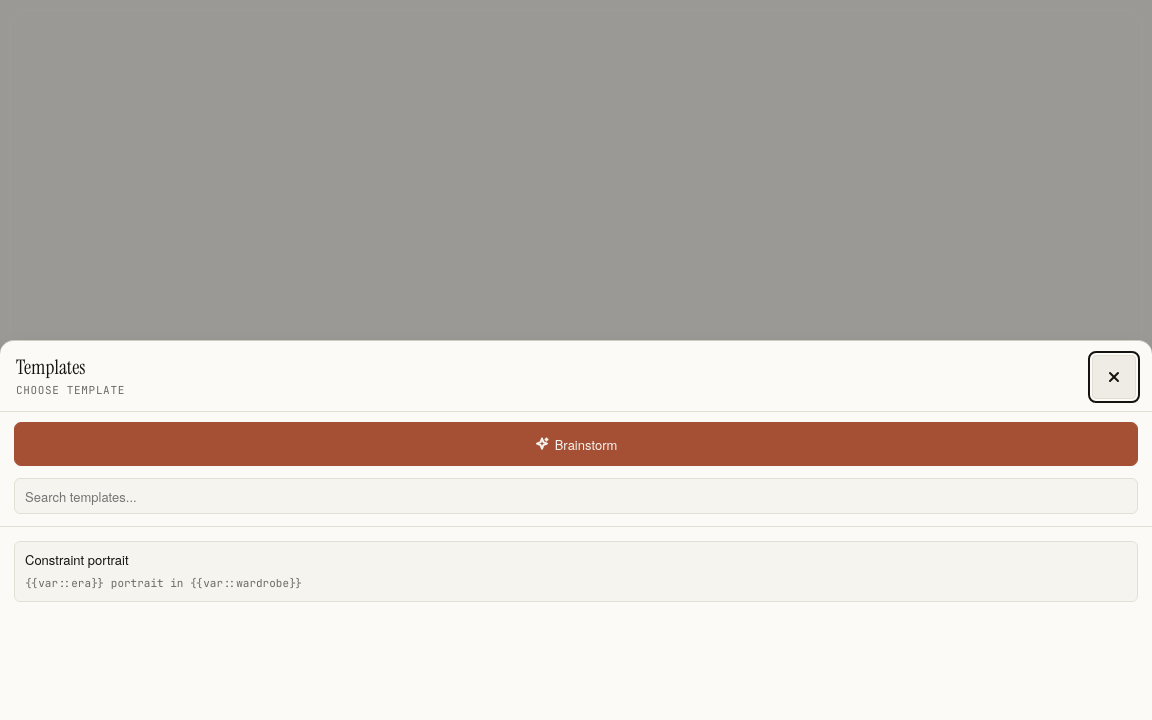
PromptPicker axis dropdown coordination › phone: dropdown renders as a sheet with a backdrop that closes only the dropdown
The width and height of the screenshot is (1152, 720).
Click the button "Constraint portrait" at (77, 560), box [14, 541, 1138, 602]
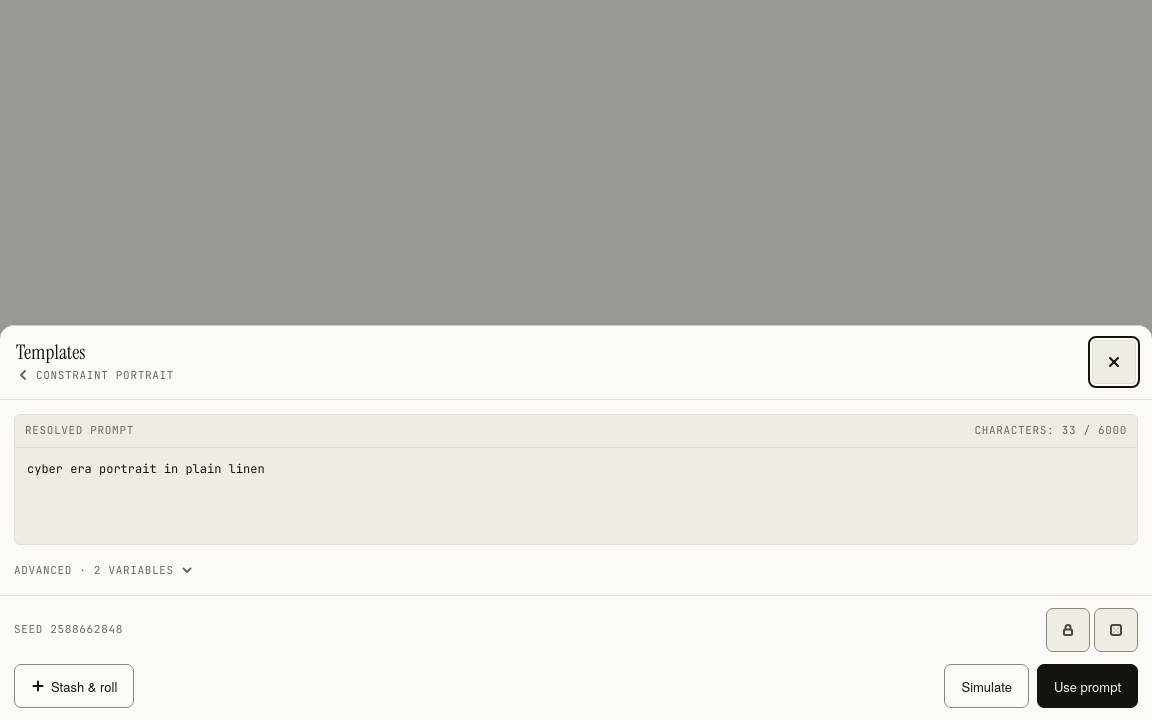
Click the button "Advanced · 2 variables" at (104, 570), box [14, 559, 194, 581]
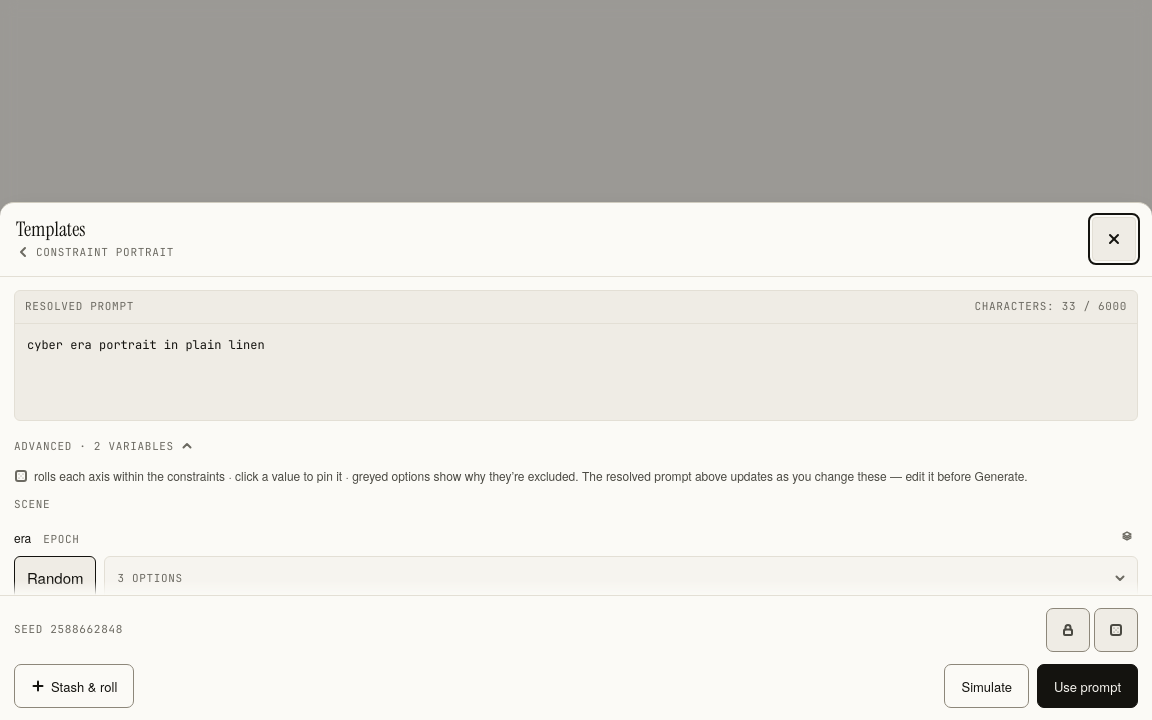
Click the button "3 options" at (150, 578), box [104, 556, 1138, 600]
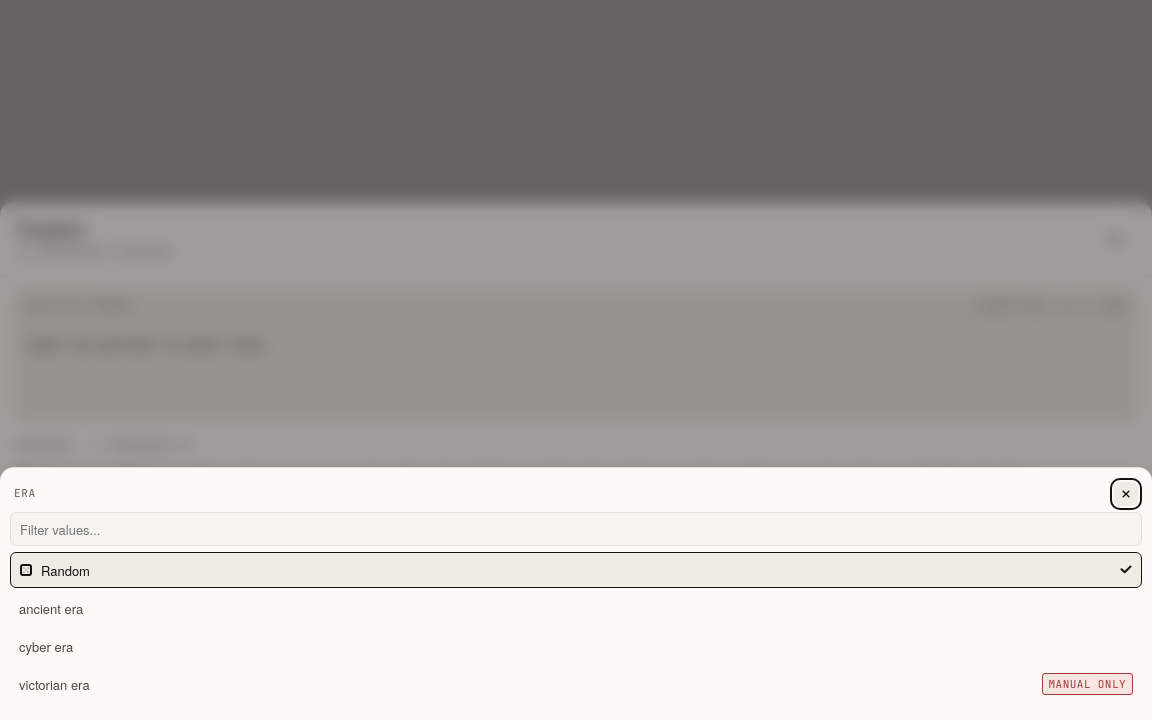
Now the button "ancient era" is shown, box [10, 590, 1142, 626]
Click the button named "close era values" at (576, 360), box [0, 0, 1151, 719]
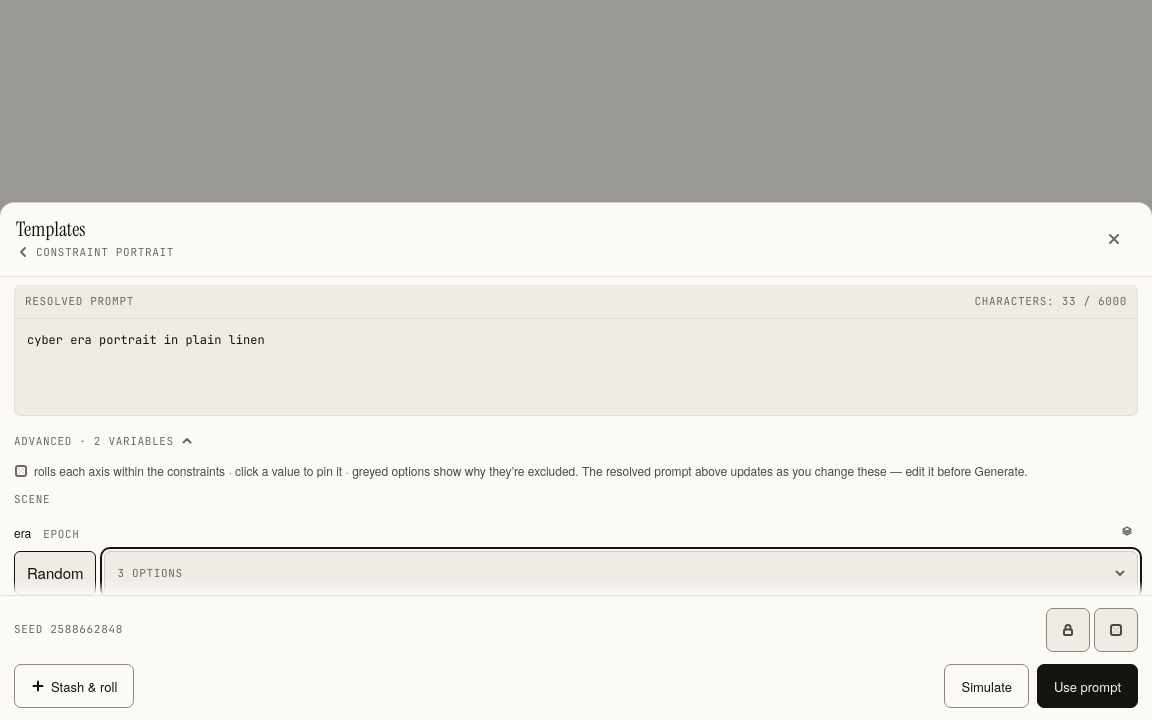
Now the button "ancient era" is gone
